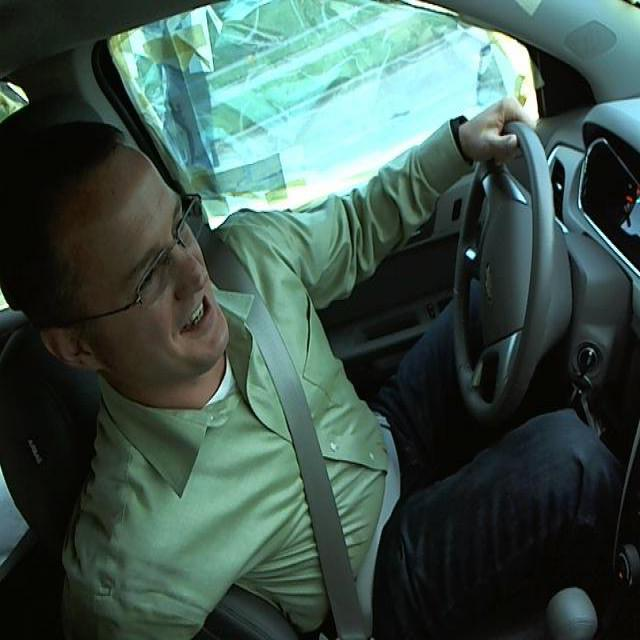seatbelt: (226, 288, 393, 616)
